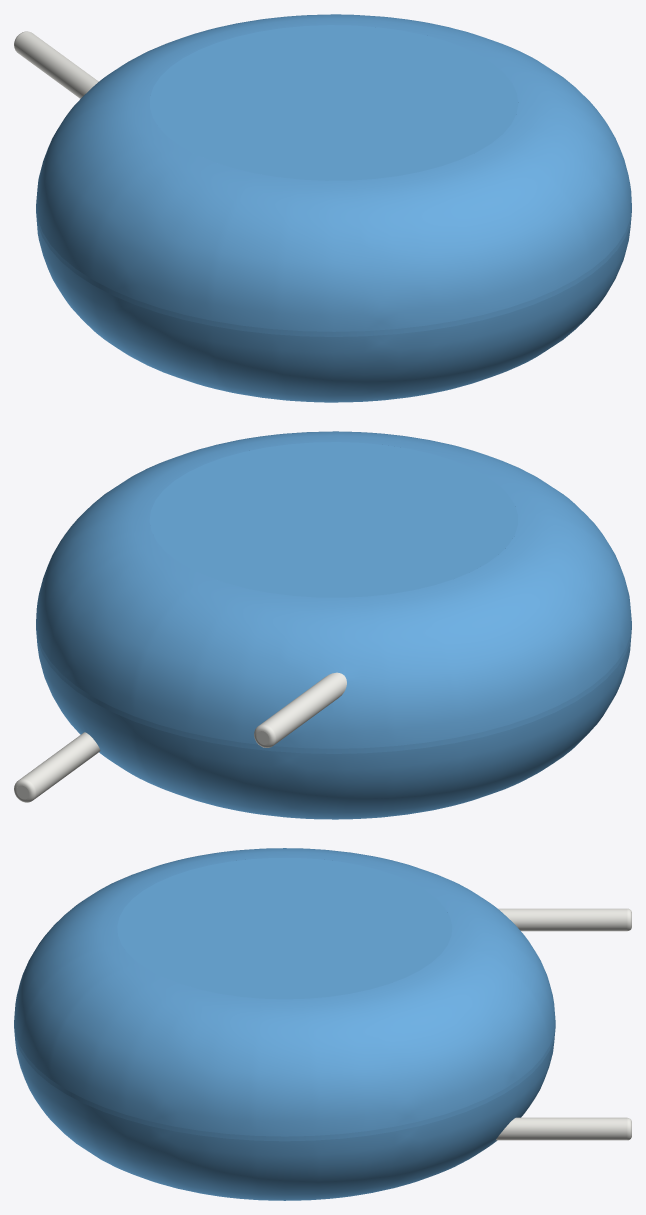
Rendered from RV_Disc_D21.5mm_W8.4mm_P10mm.glb.
3 renders of one model, top to bottom at view 1: azimuth 30°, elevation 25°; view 2: azimuth 150°, elevation 25°; view 3: azimuth 270°, elevation 25°, orthographic. The views are drawn at different scales.
Visible parts, largest first — view 1: Shape_IndexedFaceSet.001, Shape_IndexedFaceSet.003, Shape_IndexedFaceSet.002, Shape_IndexedFaceSet, Shape_IndexedFaceSet.004; view 2: Shape_IndexedFaceSet.001, Shape_IndexedFaceSet.003, Shape_IndexedFaceSet.002, Shape_IndexedFaceSet, Shape_IndexedFaceSet.004, Shape_IndexedFaceSet.006; view 3: Shape_IndexedFaceSet.001, Shape_IndexedFaceSet.003, Shape_IndexedFaceSet.002, Shape_IndexedFaceSet.006, Shape_IndexedFaceSet, Shape_IndexedFaceSet.004.
Boxes of the visible parts, x1,y1,x2,y2 form: Shape_IndexedFaceSet.001: (36,14,631,331); Shape_IndexedFaceSet.003: (150,25,518,180); Shape_IndexedFaceSet.002: (36,212,631,402); Shape_IndexedFaceSet: (36,207,631,336); Shape_IndexedFaceSet.004: (14,31,98,98); Shape_IndexedFaceSet.001: (36,431,631,748); Shape_IndexedFaceSet.003: (149,442,517,597); Shape_IndexedFaceSet.002: (36,548,631,819); Shape_IndexedFaceSet: (36,624,631,753); Shape_IndexedFaceSet.004: (260,672,346,744); Shape_IndexedFaceSet.006: (19,732,100,799); Shape_IndexedFaceSet.001: (14,848,555,1136); Shape_IndexedFaceSet.003: (117,858,452,999); Shape_IndexedFaceSet.002: (14,1028,555,1200); Shape_IndexedFaceSet.006: (496,1117,627,1140); Shape_IndexedFaceSet: (14,1023,555,1141); Shape_IndexedFaceSet.004: (498,908,627,931).
Size of the model in its own units: 8.47 by 3.31 by 9.66.
